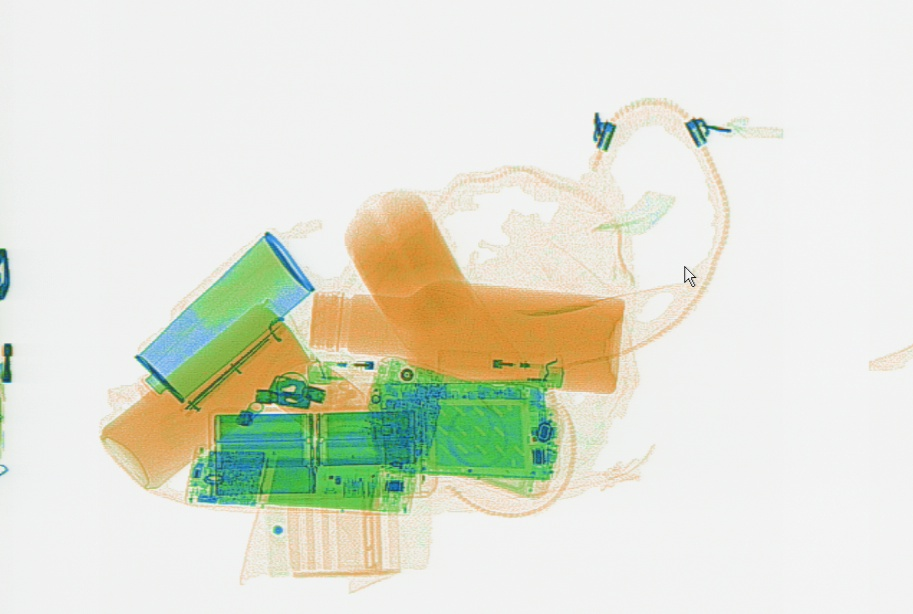lighter: (434, 344, 565, 390), (305, 352, 427, 386)
powerbank: (210, 405, 435, 499)
zippooil: (131, 230, 313, 399)
